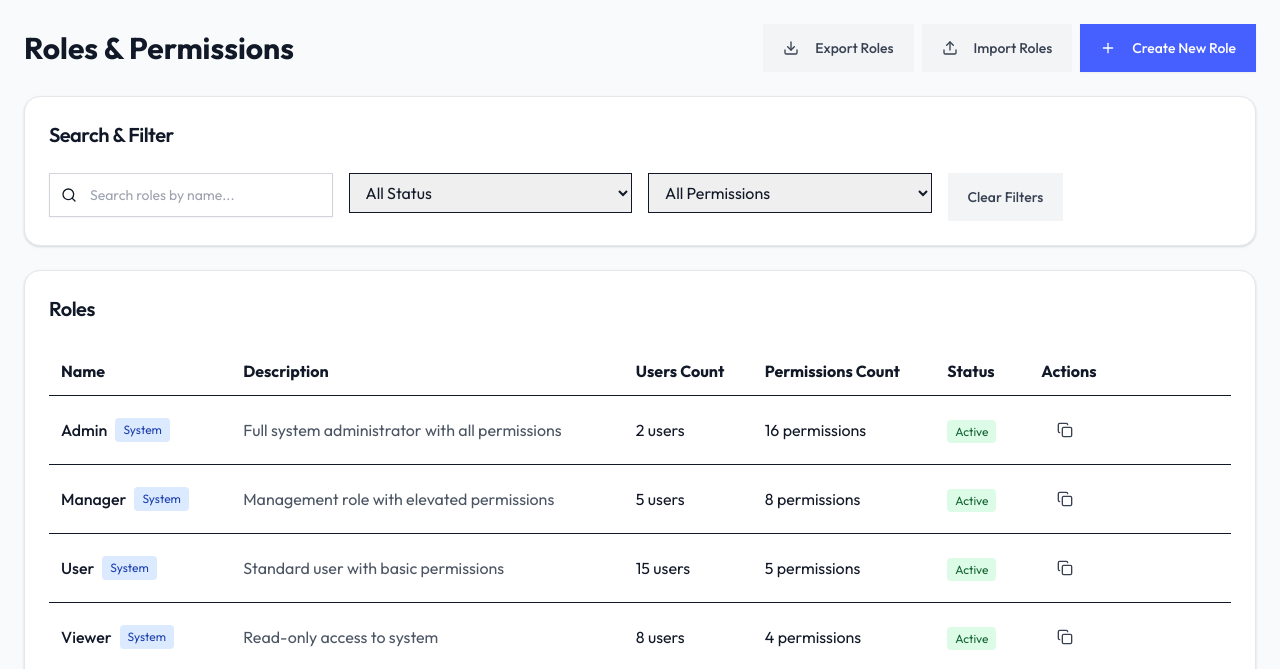
it: RolesPermissionsPage › Search and Filter Functionality › should filter roles by permission
This screenshot has width=1280, height=669.
Select "System Administration" in the dropdown with test id "permission-filter-dropdown": (790, 193) [648,173,932,213]
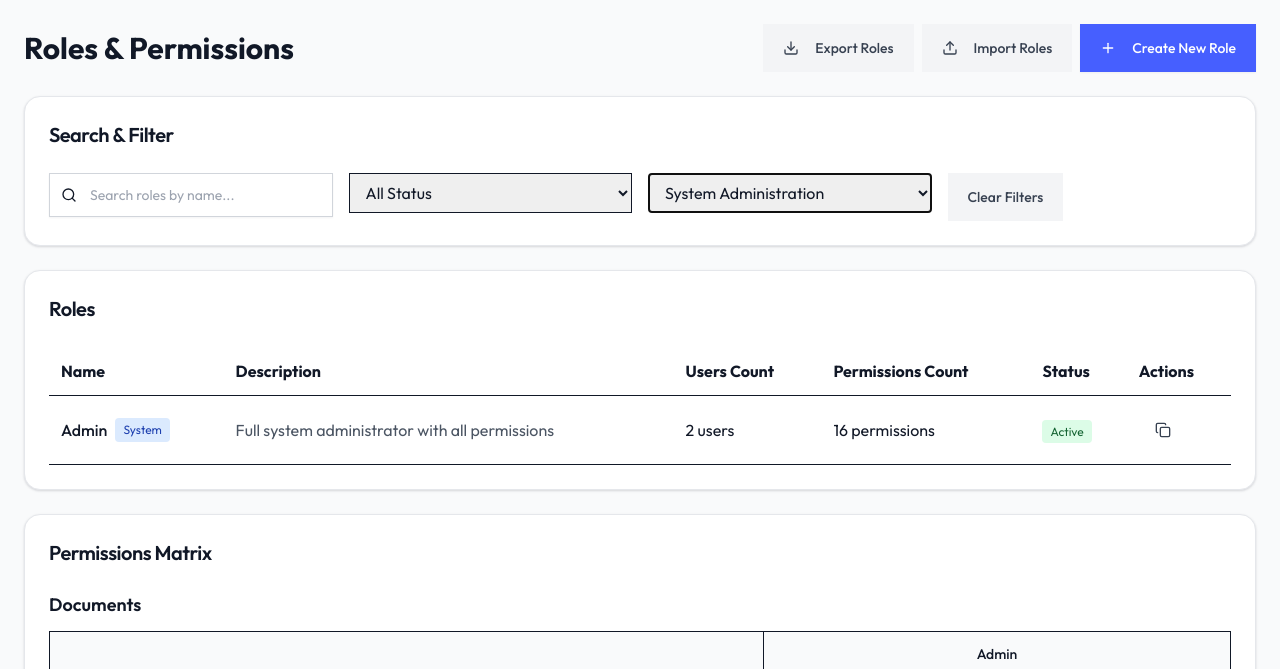
Expected: the row with test id "role-row-admin" is shown, [49,396,1231,464]
Now the row with test id "role-row-user" is gone
